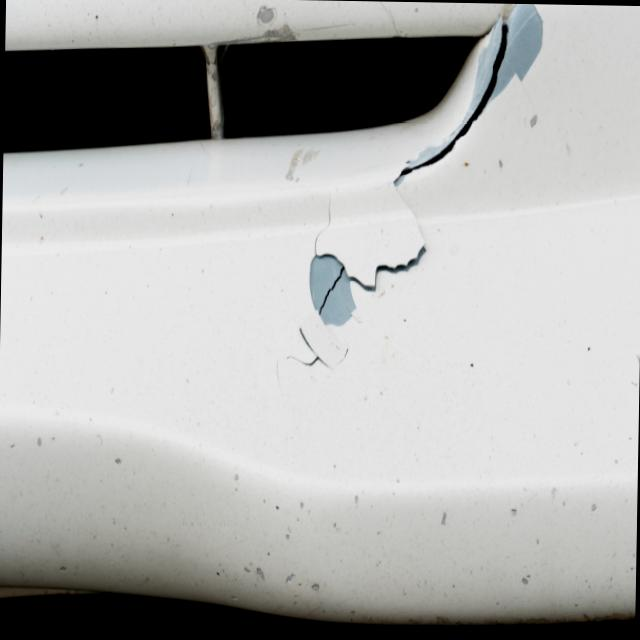Dechirure: (381, 16, 547, 225), (287, 178, 455, 337), (275, 297, 358, 394)
